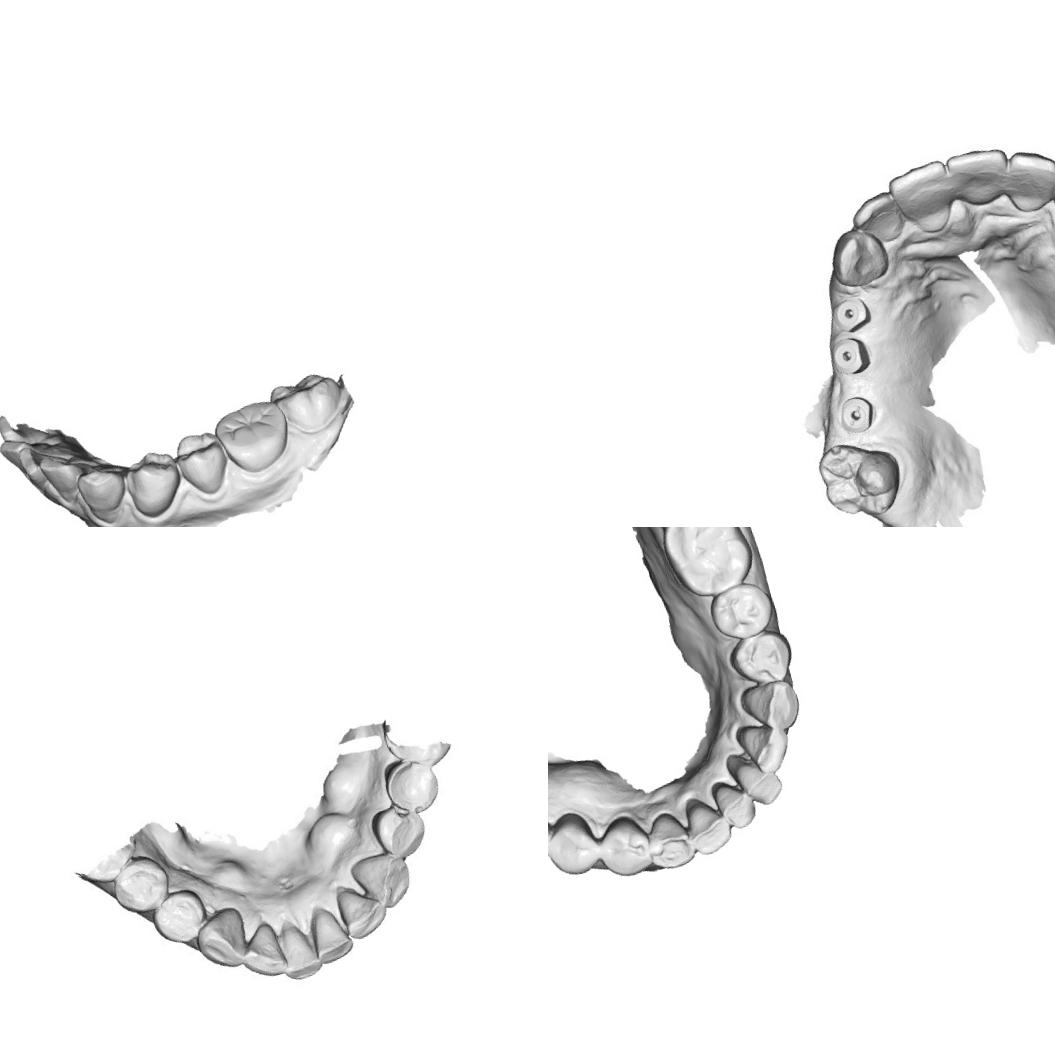canine: (824, 223, 894, 292), (734, 671, 804, 739), (346, 847, 415, 913), (639, 805, 701, 874), (72, 458, 128, 524), (192, 910, 249, 974)
implant: (826, 333, 870, 376), (830, 292, 873, 332)
implant_minus: (836, 389, 877, 435)
incisor: (882, 156, 960, 240), (939, 139, 1019, 214), (730, 714, 800, 784), (722, 744, 786, 814), (680, 789, 738, 859), (998, 139, 1055, 209), (846, 189, 907, 253), (334, 877, 390, 943), (0, 427, 64, 484), (705, 772, 762, 836), (235, 919, 288, 985), (272, 917, 322, 984), (305, 906, 357, 969), (36, 448, 90, 506)
molar: (809, 427, 912, 527), (207, 392, 299, 480), (654, 527, 758, 603), (264, 364, 354, 443)
premolar: (114, 442, 190, 524), (702, 576, 782, 646), (165, 423, 234, 503), (105, 849, 177, 921), (722, 625, 798, 692), (588, 812, 654, 885), (548, 805, 604, 884), (368, 799, 430, 866), (148, 888, 210, 953), (379, 753, 444, 815)
